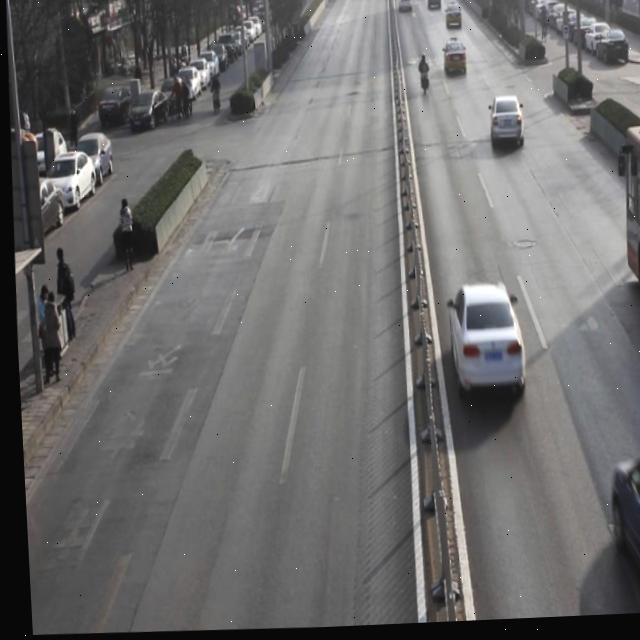car: (441, 281, 527, 411), (603, 442, 640, 620), (485, 93, 525, 157), (441, 41, 467, 83), (443, 2, 461, 32), (396, 0, 414, 21), (426, 0, 443, 14)
van: (613, 126, 640, 408)
